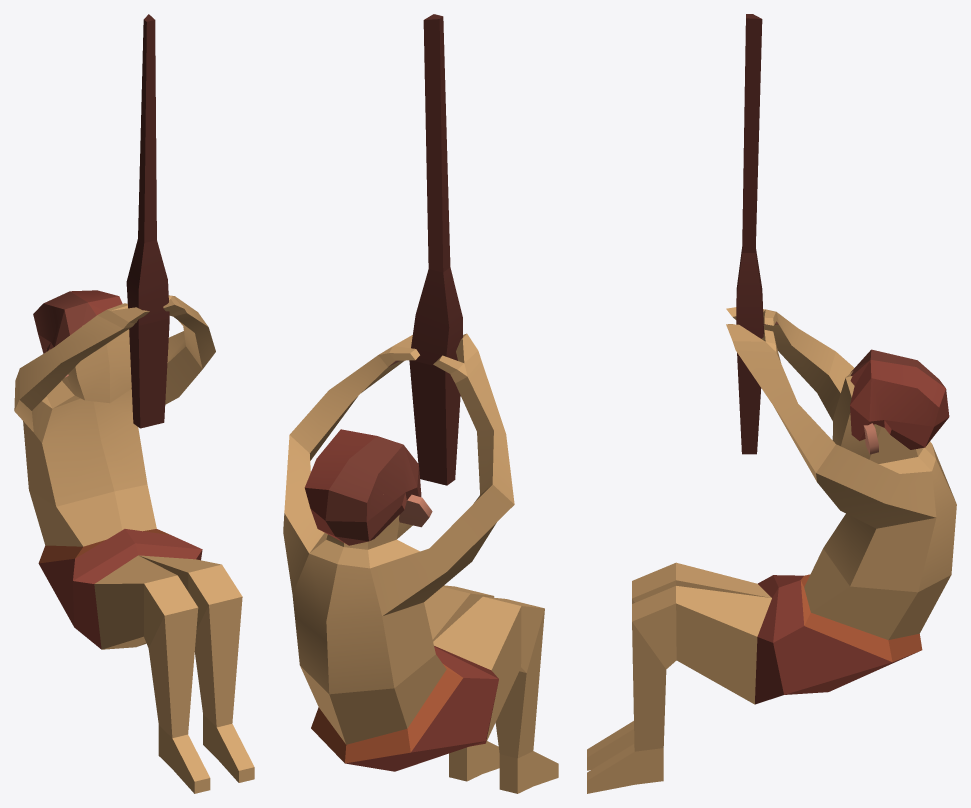
File: jungleMan.fbx
The picture shows the model from 3 angles, left to right: view 1: azimuth 30°, elevation 25°; view 2: azimuth 150°, elevation 25°; view 3: azimuth 270°, elevation 25°; orthographic projection. The views are drawn at different scales.
Visible parts, largest first — view 1: jungleMan; view 2: jungleMan; view 3: jungleMan.
Boxes of the visible parts, left/top/right/bottom form: jungleMan: left=14, top=14, right=254, bottom=793; jungleMan: left=283, top=14, right=558, bottom=793; jungleMan: left=587, top=14, right=956, bottom=793.
Size of the model in its own units: 101 by 348 by 153.
